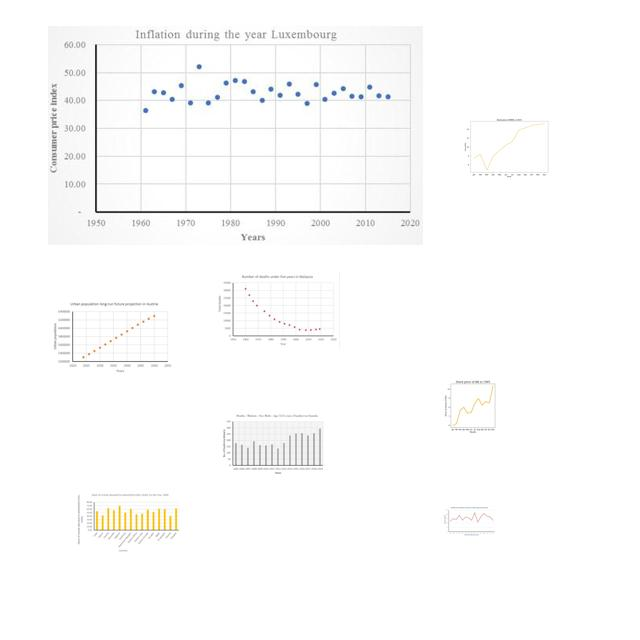Graph: (48, 26, 423, 245), (215, 272, 340, 349), (47, 301, 173, 375), (458, 112, 558, 181), (76, 490, 185, 553), (220, 412, 325, 475), (434, 377, 510, 434), (443, 506, 496, 537)
